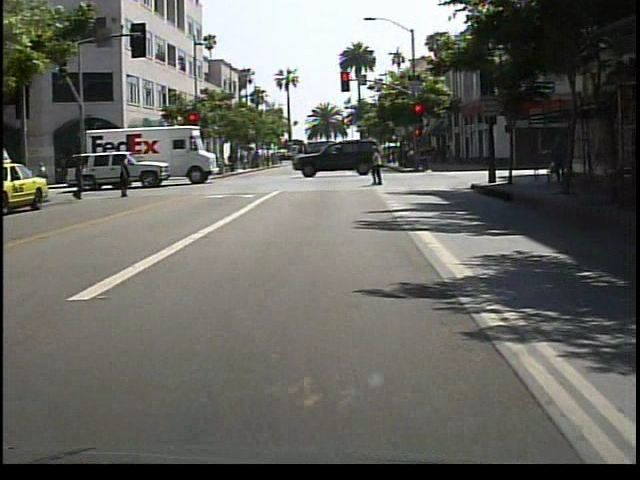person: (548, 136, 575, 191), (368, 144, 393, 189), (112, 153, 134, 201), (70, 155, 91, 205)
